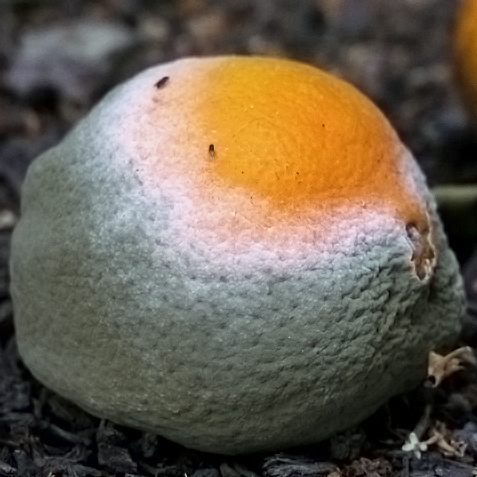Penicillium: (21, 200, 275, 372), (278, 238, 393, 345), (256, 344, 381, 413), (118, 88, 163, 166)
